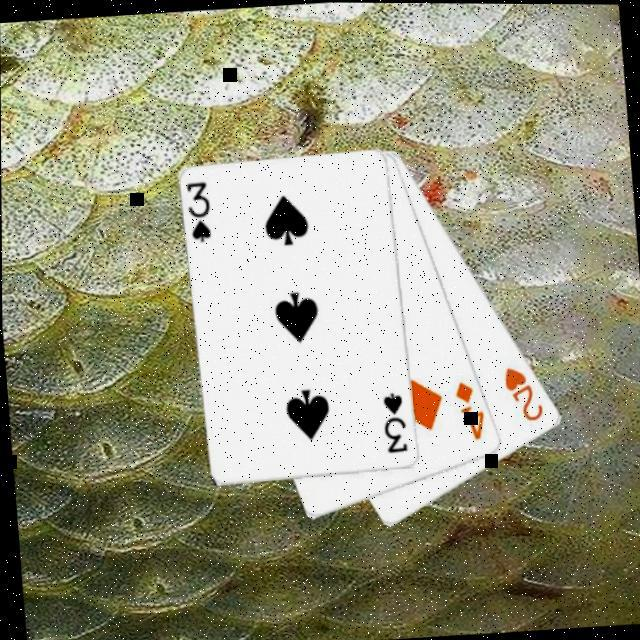2H: (498, 362, 546, 426)
3S: (376, 390, 409, 458), (181, 178, 214, 246)
4D: (451, 378, 486, 443)
